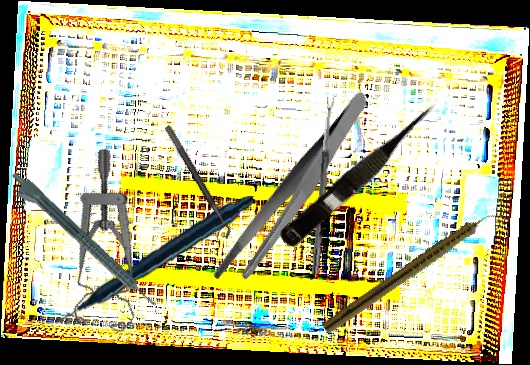Dressing Forceps: (179, 90, 409, 294)
Fixation Ring: (155, 124, 235, 244)
Handpiece: (46, 182, 254, 334), (320, 204, 502, 339), (3, 168, 160, 317)
Micro Scissor: (276, 96, 447, 254)
Speculum: (33, 145, 191, 344)
Surgical Spoon: (311, 96, 336, 276)
